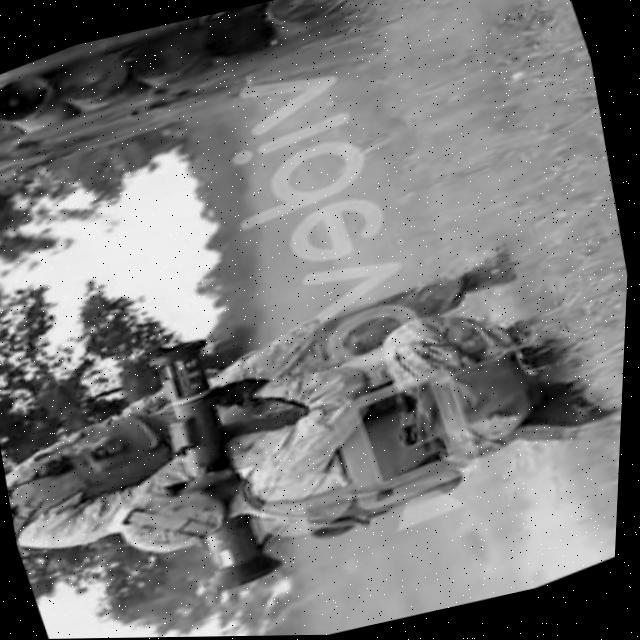rocket: (132, 322, 302, 601)
